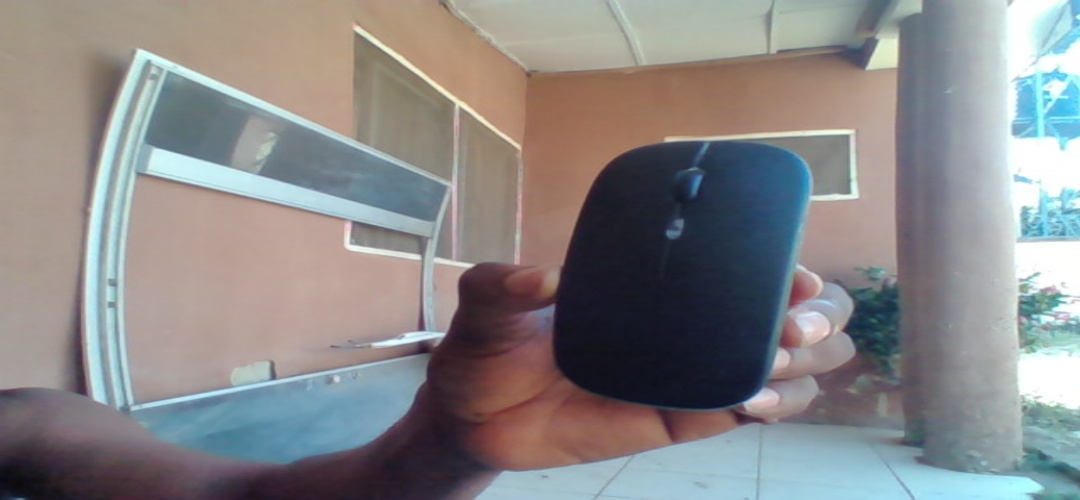wireless_mouse: (560, 128, 804, 416)
